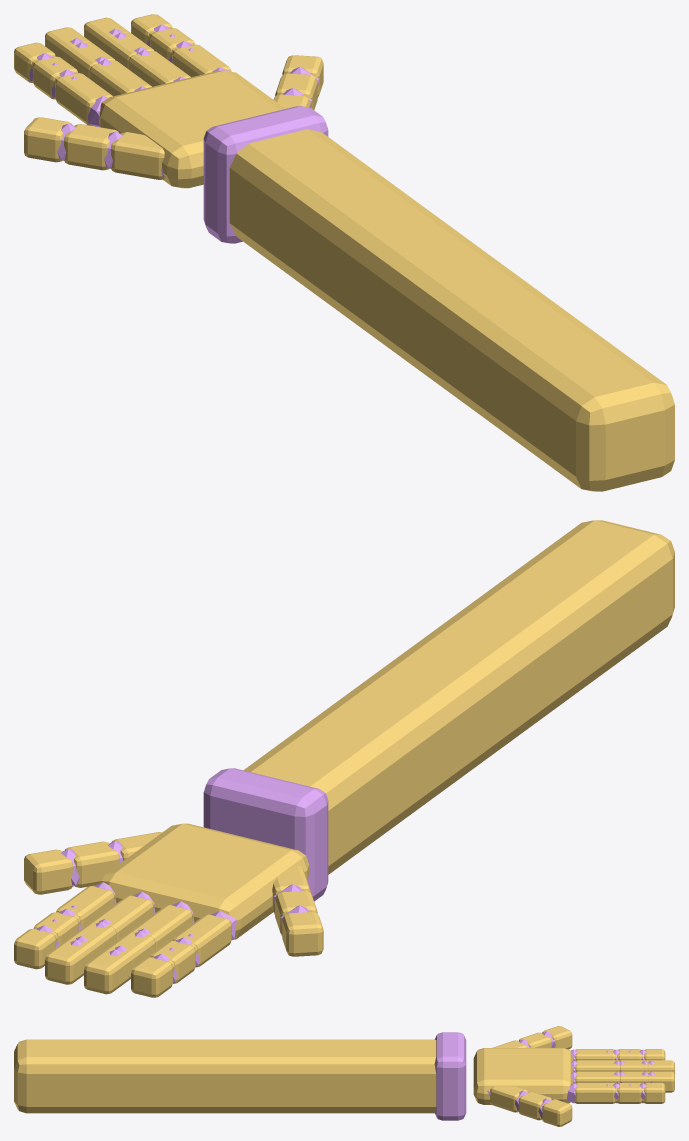
Rendered from hands.glb.
3 views of the same model, one above another, from view 1: azimuth 30°, elevation 25°; view 2: azimuth 150°, elevation 25°; view 3: azimuth 270°, elevation 25° (orthographic). The views are drawn at different scales.
Visible parts, largest first — view 1: forearm_L, palm_L, cuff_L, thumb_01_R_mesh, thumb_02_R_mesh, index_01_R_mesh, thumb_03_R_mesh, middle_01_L_mesh, index_01_L_mesh, ring_01_L_mesh, index_02_R_mesh, middle_01_R_mesh (+6 smaller); view 2: forearm_L, palm_L, cuff_L, thumb_03_L_mesh, thumb_03_R_mesh, index_01_R_mesh, thumb_02_L_mesh, index_03_R_mesh, middle_03_L_mesh, middle_01_L_mesh, index_03_L_mesh, index_01_L_mesh (+9 smaller); view 3: forearm_L, palm_L, cuff_L, index_01_L_mesh, thumb_03_L_mesh, thumb_01_L_mesh, thumb_02_L_mesh, middle_01_L_mesh, index_02_L_mesh, index_01_R_mesh, ring_01_L_mesh, index_03_L_mesh (+9 smaller).
Part boxes in pixels (bbox=[...]): forearm_L: bbox=[229, 129, 674, 491]; palm_L: bbox=[99, 70, 285, 188]; cuff_L: bbox=[203, 106, 328, 243]; thumb_01_R_mesh: bbox=[111, 132, 164, 179]; thumb_02_R_mesh: bbox=[64, 124, 118, 170]; index_01_R_mesh: bbox=[55, 73, 112, 125]; thumb_03_R_mesh: bbox=[24, 117, 72, 162]; middle_01_L_mesh: bbox=[129, 50, 190, 86]; index_01_L_mesh: bbox=[172, 44, 231, 77]; ring_01_L_mesh: bbox=[94, 63, 151, 96]; index_02_R_mesh: bbox=[33, 56, 77, 99]; middle_01_R_mesh: bbox=[90, 60, 149, 95]; forearm_L: bbox=[243, 520, 674, 874]; palm_L: bbox=[101, 823, 309, 939]; cuff_L: bbox=[203, 768, 328, 901]; thumb_03_L_mesh: bbox=[24, 849, 72, 894]; thumb_03_R_mesh: bbox=[282, 911, 323, 956]; index_01_R_mesh: bbox=[173, 914, 231, 967]; thumb_02_L_mesh: bbox=[65, 841, 119, 887]; index_03_R_mesh: bbox=[131, 957, 173, 997]; middle_03_L_mesh: bbox=[45, 943, 87, 984]; middle_01_L_mesh: bbox=[91, 895, 153, 940]; index_03_L_mesh: bbox=[14, 929, 56, 969]; index_01_L_mesh: bbox=[56, 886, 114, 928]; forearm_L: bbox=[14, 1039, 436, 1113]; palm_L: bbox=[473, 1048, 573, 1104]; cuff_L: bbox=[434, 1032, 466, 1120]; index_01_L_mesh: bbox=[574, 1083, 615, 1103]; thumb_03_L_mesh: bbox=[542, 1099, 572, 1126]; thumb_01_L_mesh: bbox=[490, 1086, 528, 1112]; thumb_02_L_mesh: bbox=[518, 1091, 551, 1120]; middle_01_L_mesh: bbox=[574, 1071, 619, 1083]; index_02_L_mesh: bbox=[617, 1083, 641, 1103]; index_01_R_mesh: bbox=[574, 1049, 615, 1060]; ring_01_L_mesh: bbox=[574, 1060, 613, 1071]; index_03_L_mesh: bbox=[644, 1083, 665, 1103].
Size of the model in its own units: 0.1913 by 0.066 by 0.621.
